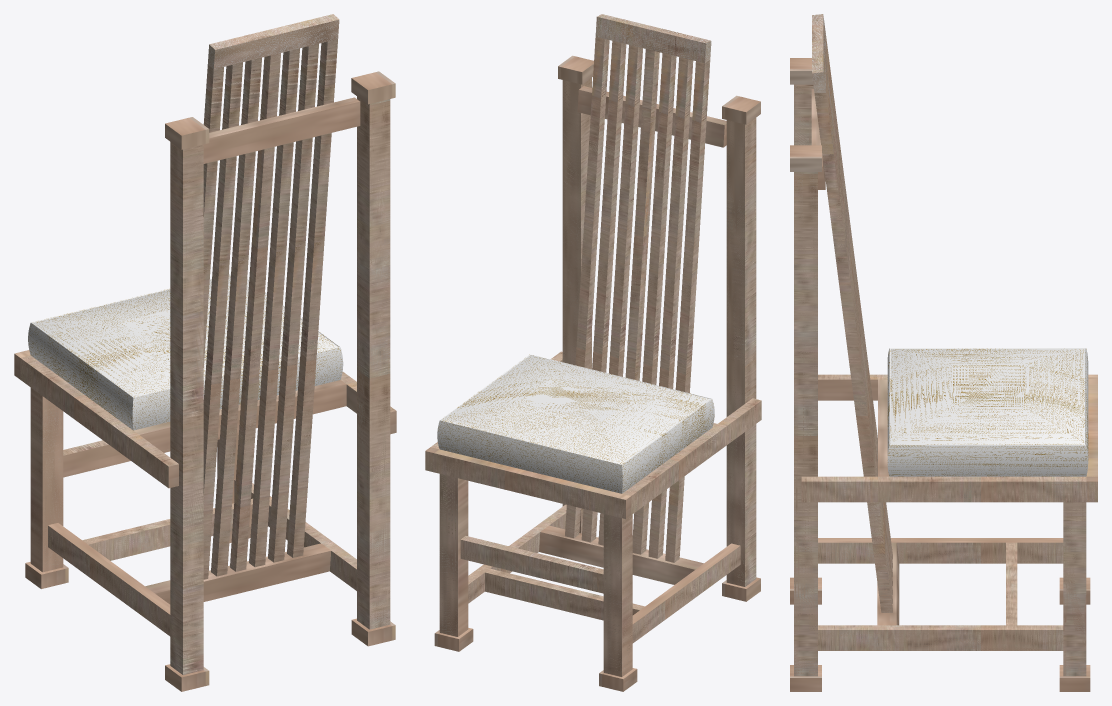
The picture shows the model from 3 angles, left to right: view 1: azimuth 30°, elevation 25°; view 2: azimuth 150°, elevation 25°; view 3: azimuth 270°, elevation 25°; orthographic projection. The views are drawn at different scales.
Visible parts, largest first — view 1: mesh7_mesh7-geometry, mesh26_mesh26-geometry, mesh38_mesh38-geometry, mesh25_mesh25-geometry, mesh22_mesh22-geometry, mesh23_mesh23-geometry, mesh24_mesh24-geometry, mesh19_mesh19-geometry, mesh20_mesh20-geometry, mesh1_mesh1-geometry, mesh33_mesh33-geometry, mesh5_mesh5-geometry (+6 smaller); view 2: mesh38_mesh38-geometry, mesh7_mesh7-geometry, mesh26_mesh26-geometry, mesh21_mesh21-geometry, mesh20_mesh20-geometry, mesh23_mesh23-geometry, mesh25_mesh25-geometry, mesh19_mesh19-geometry, mesh3_mesh3-geometry, mesh24_mesh24-geometry, mesh22_mesh22-geometry, mesh1_mesh1-geometry (+5 smaller); view 3: mesh38_mesh38-geometry, mesh26_mesh26-geometry, mesh3_mesh3-geometry, mesh7_mesh7-geometry, mesh19_mesh19-geometry, mesh1_mesh1-geometry, mesh37_mesh37-geometry, mesh18_mesh18-geometry, mesh35_mesh35-geometry, mesh24_mesh24-geometry, mesh25_mesh25-geometry, mesh5_mesh5-geometry (+5 smaller).
Boxes of the visible parts, x1,y1,x2,y2 form: mesh7_mesh7-geometry: (25,117,209,691); mesh26_mesh26-geometry: (217,71,395,646); mesh38_mesh38-geometry: (28,273,343,430); mesh25_mesh25-geometry: (268,43,318,562); mesh22_mesh22-geometry: (230,53,280,571); mesh23_mesh23-geometry: (211,57,261,576); mesh24_mesh24-geometry: (249,48,299,567); mesh19_mesh19-geometry: (287,39,337,557); mesh20_mesh20-geometry: (203,62,242,579); mesh1_mesh1-geometry: (20,355,178,488); mesh33_mesh33-geometry: (203,97,360,163); mesh5_mesh5-geometry: (145,543,331,604); mesh38_mesh38-geometry: (437,354,714,493); mesh7_mesh7-geometry: (599,95,760,691); mesh26_mesh26-geometry: (434,55,593,651); mesh21_mesh21-geometry: (665,60,710,562); mesh20_mesh20-geometry: (648,57,693,558); mesh23_mesh23-geometry: (632,53,676,554); mesh25_mesh25-geometry: (581,41,626,542); mesh19_mesh19-geometry: (565,37,609,538); mesh3_mesh3-geometry: (425,351,631,518); mesh24_mesh24-geometry: (598,45,642,545); mesh22_mesh22-geometry: (625,49,659,380); mesh1_mesh1-geometry: (622,398,761,514); mesh38_mesh38-geometry: (887,348,1088,476); mesh26_mesh26-geometry: (790,145,1090,691); mesh3_mesh3-geometry: (801,374,1097,502); mesh7_mesh7-geometry: (790,58,1090,604); mesh19_mesh19-geometry: (814,89,892,612); mesh1_mesh1-geometry: (818,374,887,400); mesh37_mesh37-geometry: (812,14,825,92); mesh18_mesh18-geometry: (1006,542,1017,625); mesh35_mesh35-geometry: (878,379,889,476); mesh24_mesh24-geometry: (826,72,892,595); mesh25_mesh25-geometry: (826,80,892,603); mesh5_mesh5-geometry: (877,542,899,625).
Size of the model in its own units: 0.3275 by 0.8565 by 0.399.
